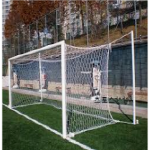goals: (7, 38, 118, 139)
